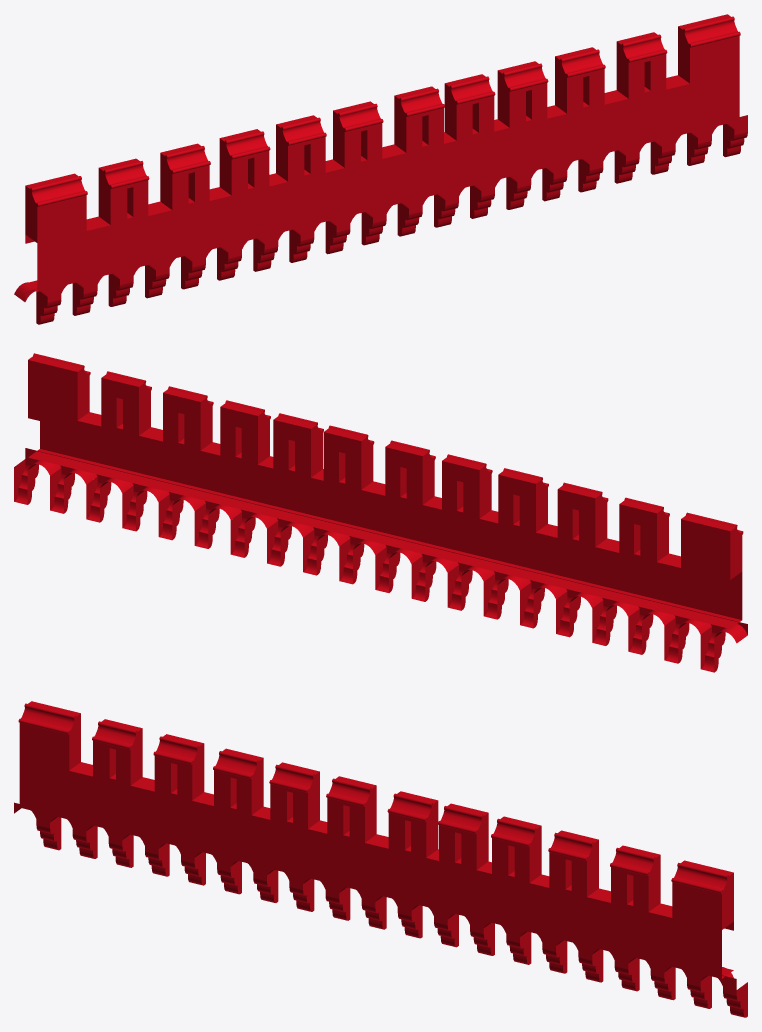
3 views of the same model, one above another, from view 1: azimuth 30°, elevation 25°; view 2: azimuth 150°, elevation 25°; view 3: azimuth 330°, elevation 25° (orthographic).
Parts seen in each view (by area): view 1: Group_2.3; view 2: Group_2.3; view 3: Group_2.3.
Boxes of the visible parts, box(x1,y1,x2,y2) form: Group_2.3: box(14, 14, 747, 324); Group_2.3: box(14, 353, 747, 672); Group_2.3: box(14, 701, 747, 1017).
Size of the model in its own units: 1920 by 368 by 71.31.
